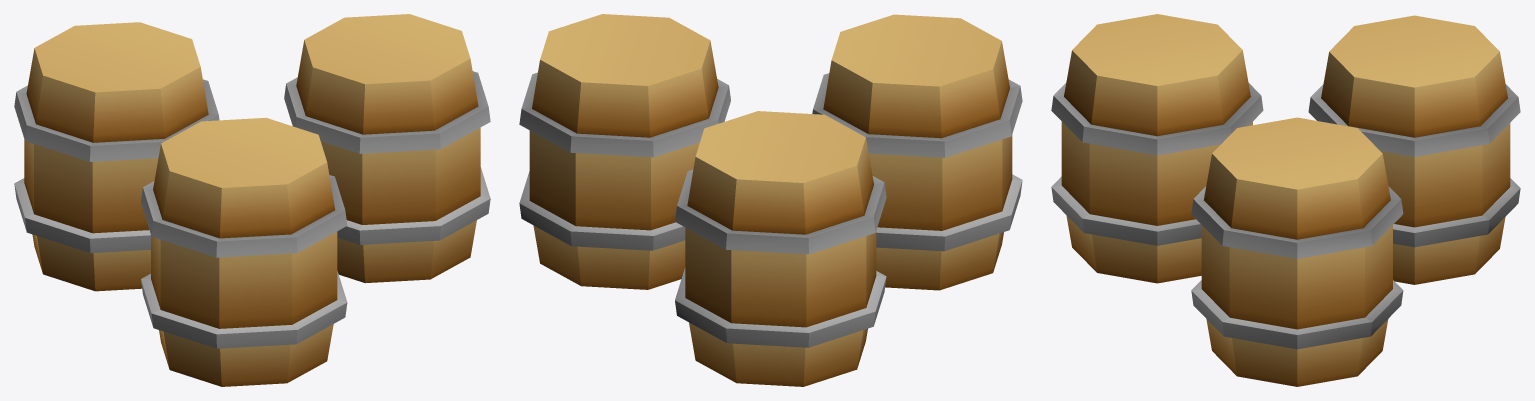
The model's file is tripleBarrel02.fbx.
3 renders of one model, left to right at view 1: azimuth 30°, elevation 25°; view 2: azimuth 150°, elevation 25°; view 3: azimuth 270°, elevation 25°, orthographic. The views are drawn at different scales.
Visible parts, largest first — view 1: tripleBarrel02; view 2: tripleBarrel02; view 3: tripleBarrel02.
Part boxes in pixels (x1,y1,x2,y2): tripleBarrel02: (14,14,490,386); tripleBarrel02: (519,14,1022,386); tripleBarrel02: (1051,14,1520,386).
Size of the model in its own units: 156 by 74.3 by 160.
